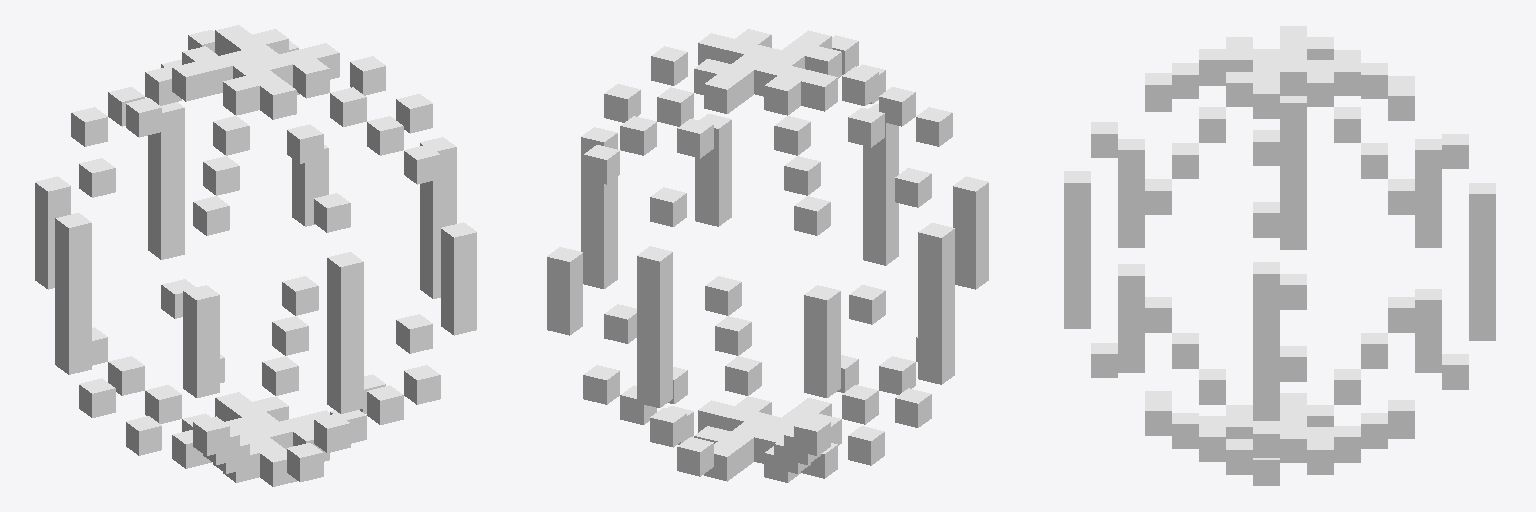
The model's file is invisible.obj.
3 views of the same model, side by side, from view 1: azimuth 30°, elevation 25°; view 2: azimuth 150°, elevation 25°; view 3: azimuth 270°, elevation 25° (orthographic).
Visible parts, largest first — view 1: object 1; view 2: object 1; view 3: object 1.
Boxes of the visible parts, x1=… form: object 1: x1=35, y1=25, x2=476, y2=486; object 1: x1=547, y1=29, x2=988, y2=482; object 1: x1=1064, y1=26, x2=1495, y2=485.
Bounding box in the file's own units: 1.6 × 1.6 × 1.6.